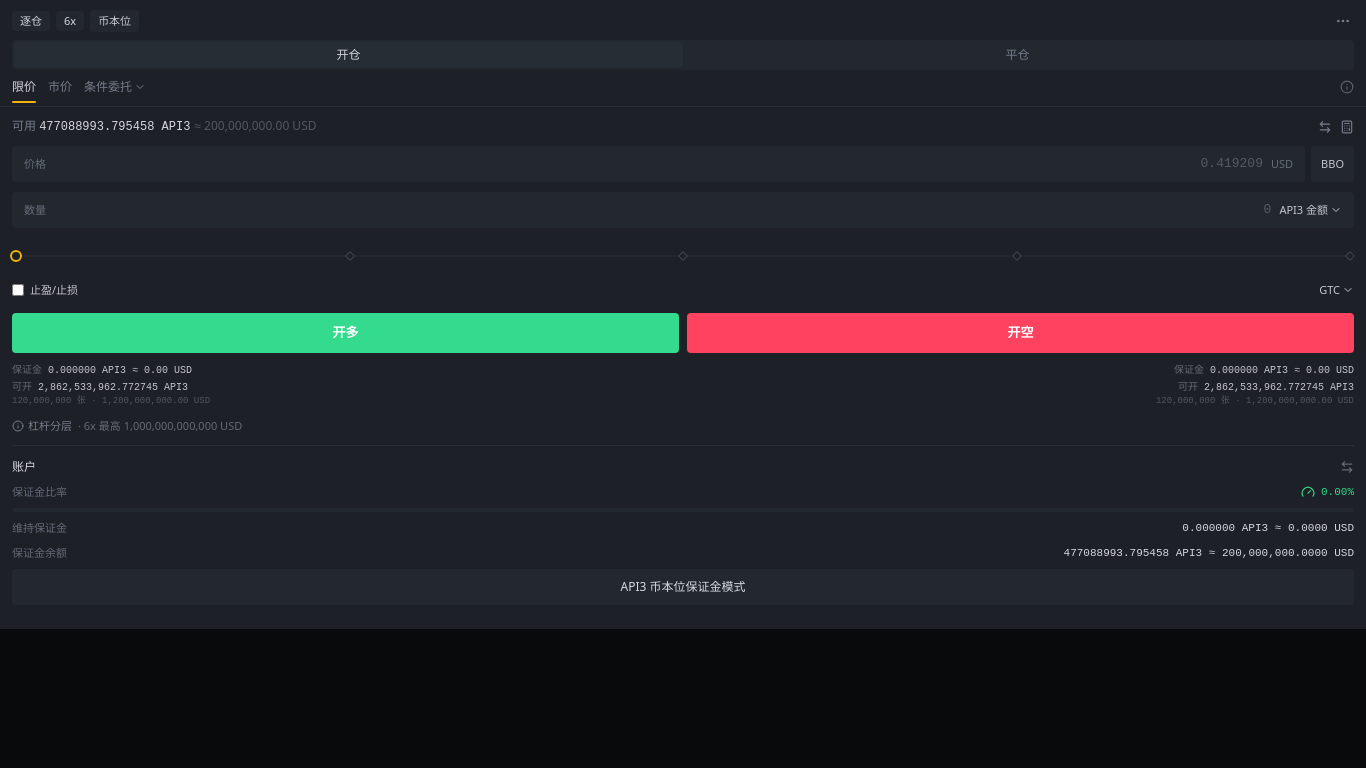
Test: 市价单的预计成交价 › 【回归】3,000 万名义的市价单：滑点 ±0.61%，两个方向的成交价都按 0.01% + 名义/50亿 给出
Step 1. Click the button "市价" → point(60, 90), box top-left (48, 78), bottom-right (72, 102)
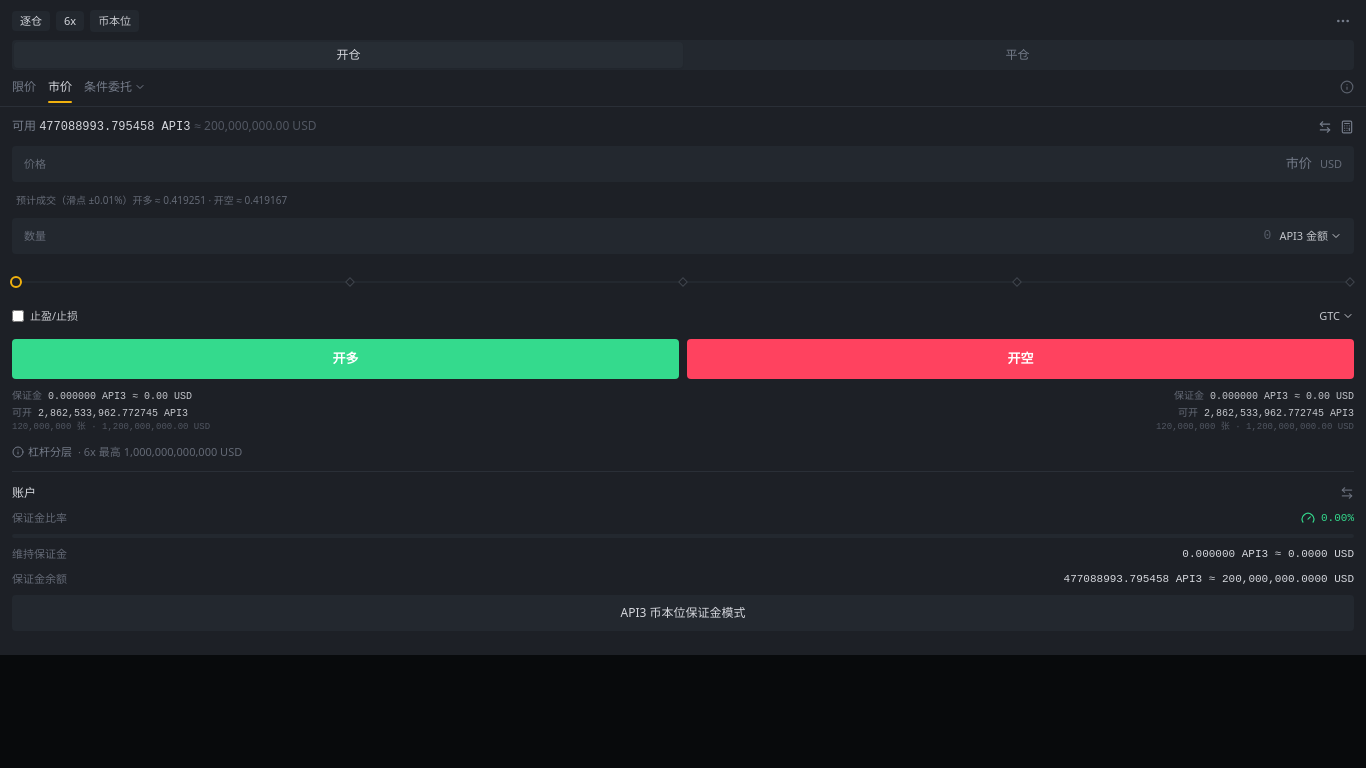
// 币金额档：71,563,206 API3 × 0.419209 ≈ 30,000,000 USD → 2,999,99x 张
Step 2. Type "71563206" into the field with test id "order-qty-input" → point(663, 236), box top-left (54, 226), bottom-right (1271, 246)
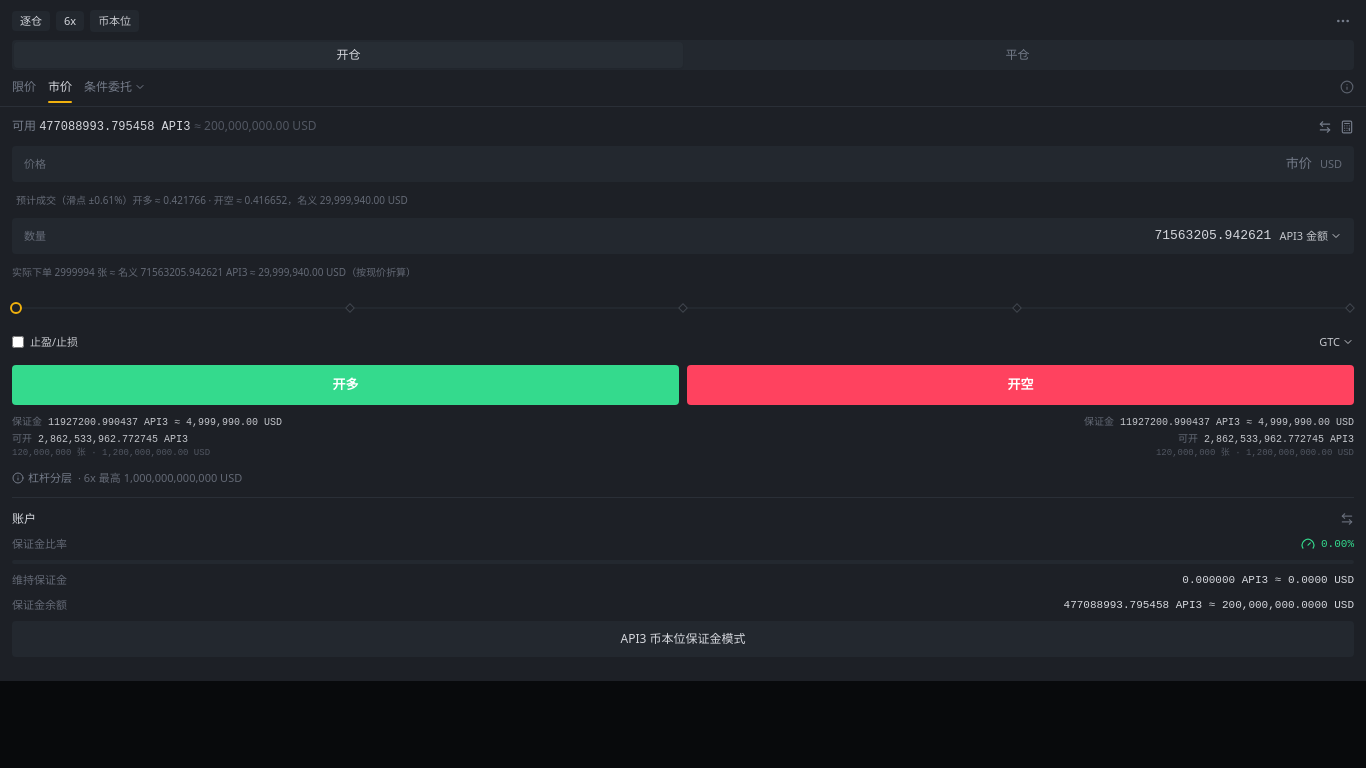
expect the text with test id "order-expected-fill" shows "滑点 ±0.61%": met, box top-left (16, 193), bottom-right (408, 207)
expect the text with test id "order-expected-fill" reads "预计成交（滑点 ±0.61%）开多 ≈ 0.421766 · 开空 ≈ 0.416652，名义 29,999,940.00 USD": met, box top-left (287, 193), bottom-right (408, 207)
